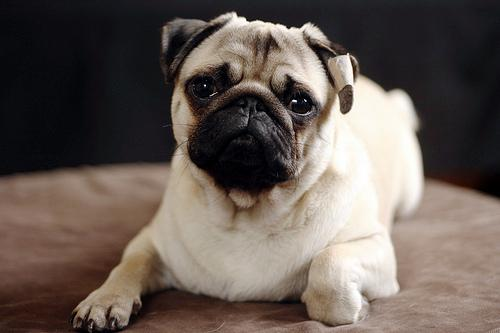dog-pug: (159, 11, 357, 187)
